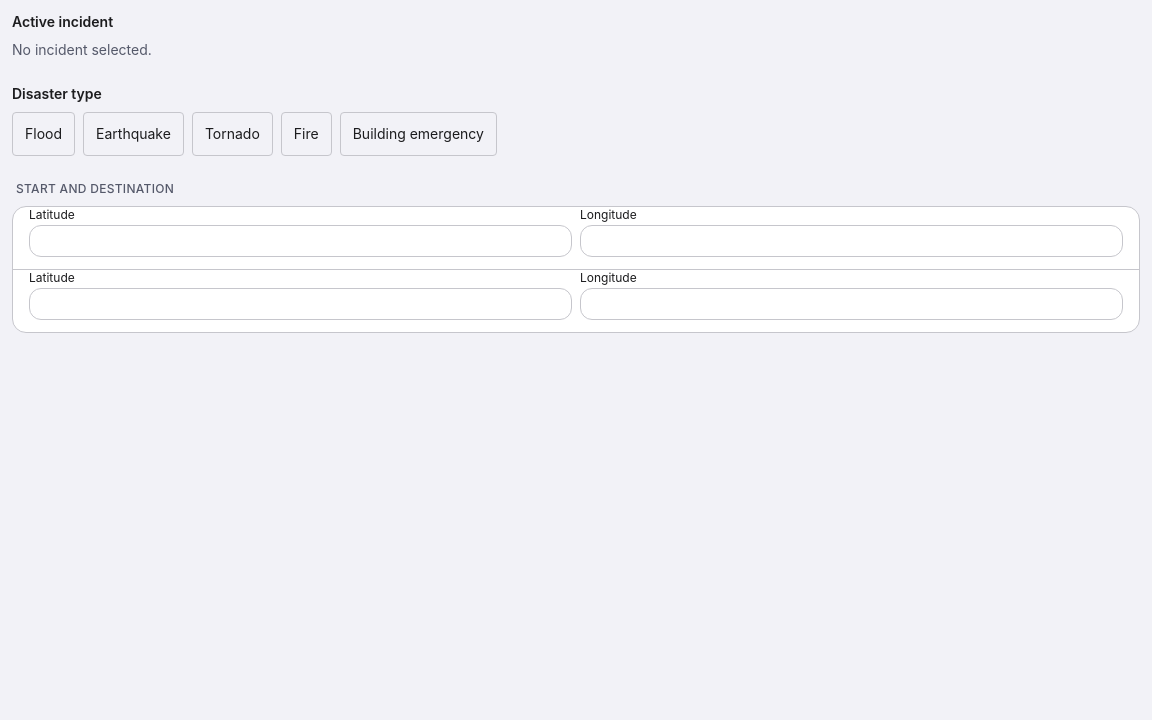
Test: Incident and route setup › sample points fill start and a simulation destination with the not-a-shelter label
Expected: the text "Use sample points" is not shown
Click the button "Flood": (44, 134) [12,112,75,156]
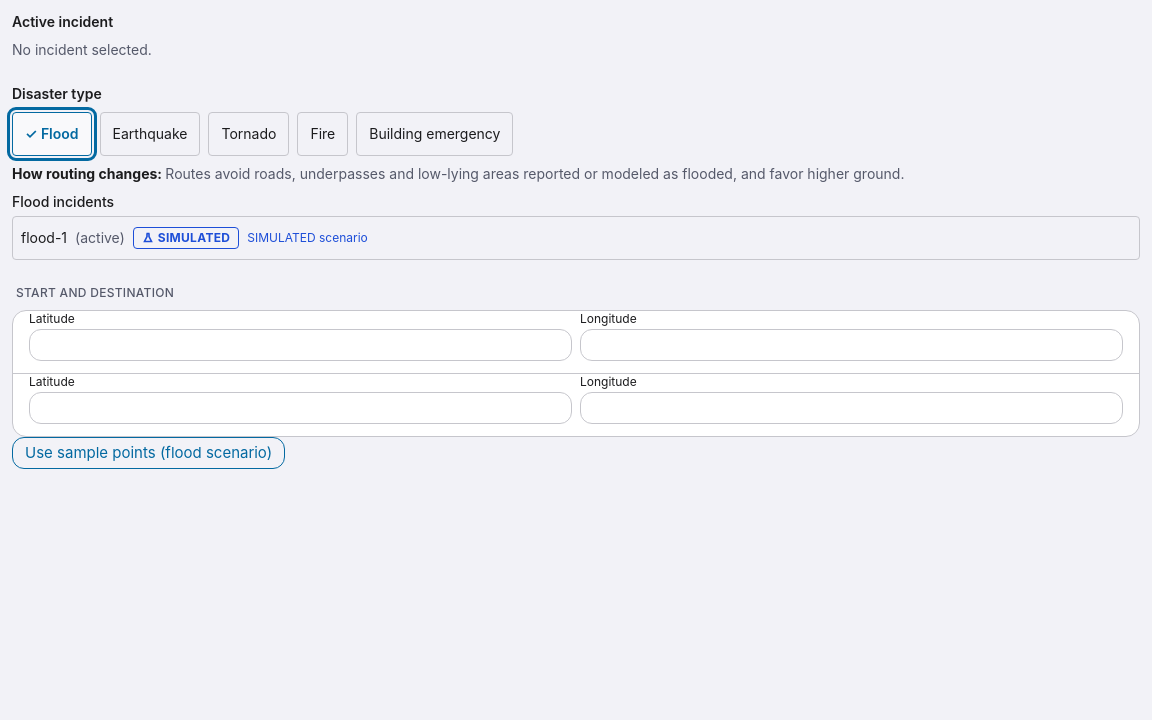
Click the button "Use sample points (flood scenario)": (149, 453) [12,437,285,469]
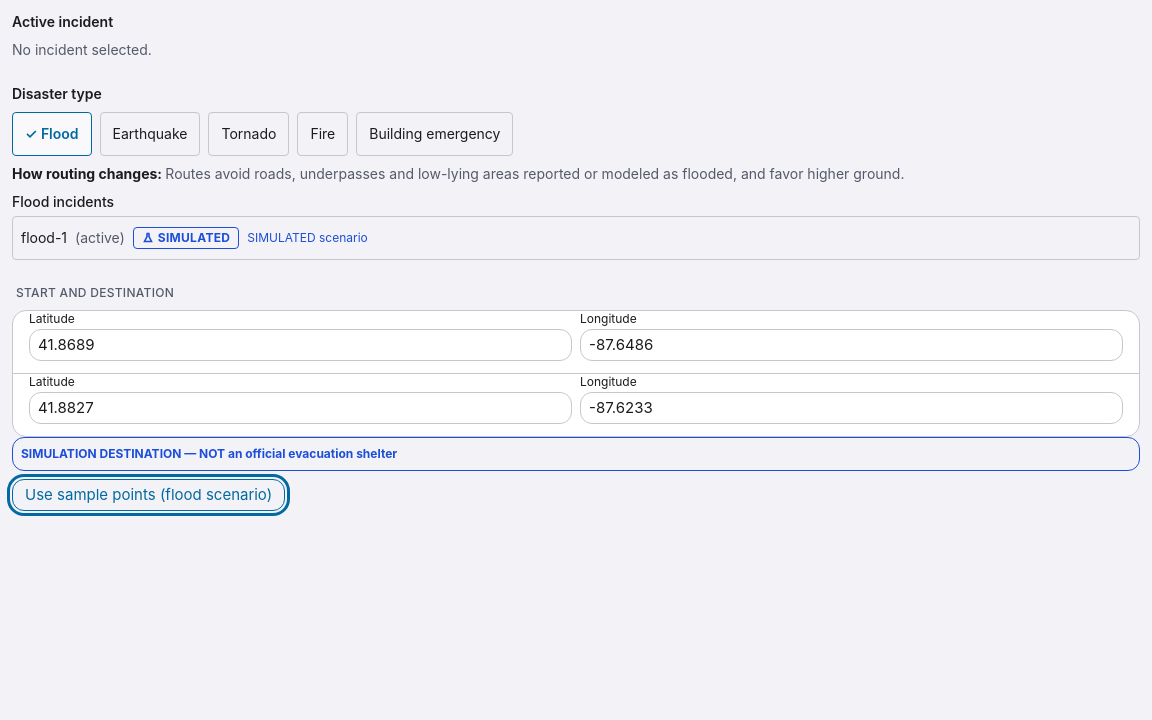
Expected: the text with test id "sim-destination-label" reads "SIMULATION DESTINATION — NOT an official evacuation shelter", [21,446,397,461]
